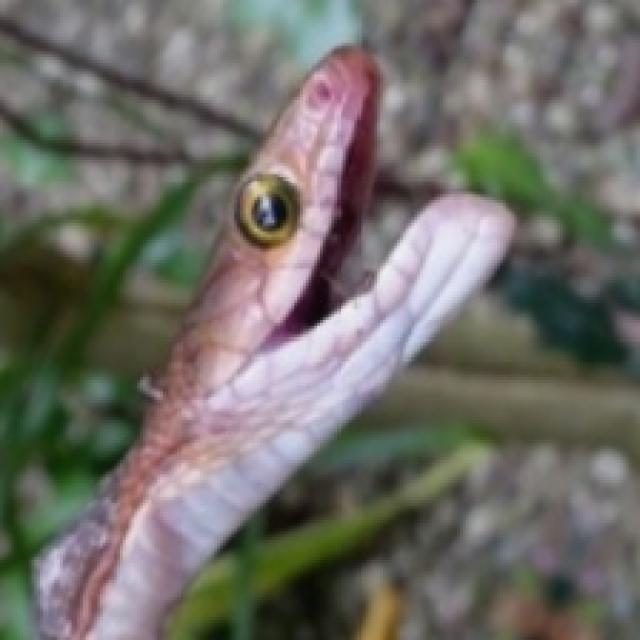reddish rat snake: (37, 46, 511, 637)
